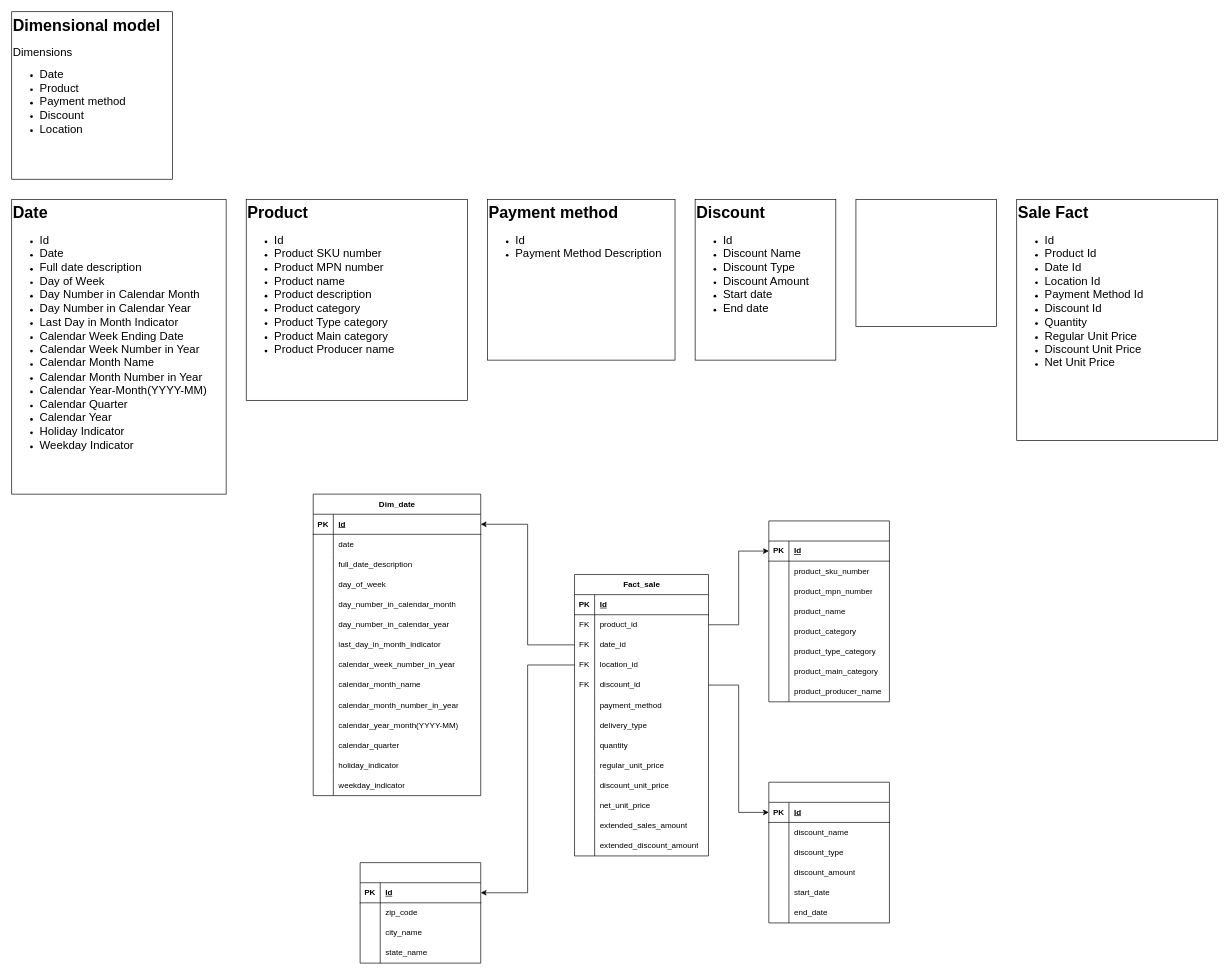
This 1229x975 diagram has some shape labels left out. Here are the shapes that lost their labels. From the top down, the box of each, then its label:
(855, 199, 997, 327): Location Id Zip code City name State name
(768, 520, 889, 702): Dim_product
(768, 782, 889, 923): Dim_discount
(359, 862, 481, 963): Dim_location
